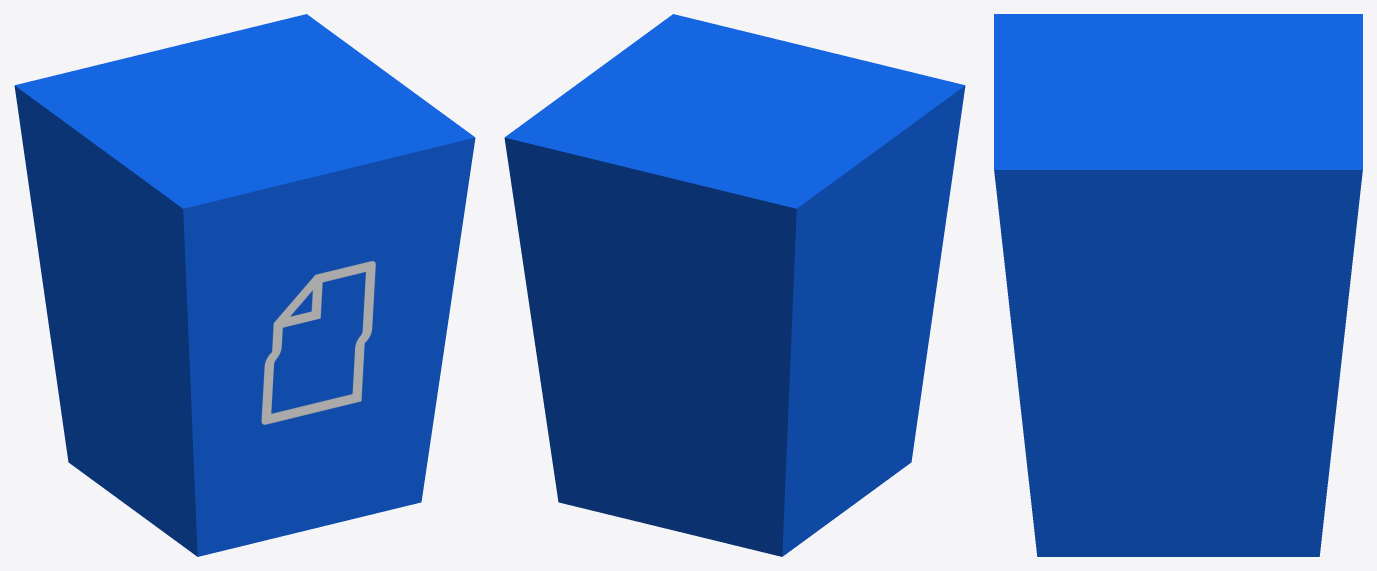
The model's file is PaperTrash.glb.
The picture shows the model from 3 angles, left to right: view 1: azimuth 30°, elevation 25°; view 2: azimuth 150°, elevation 25°; view 3: azimuth 270°, elevation 25°; orthographic projection. The views are drawn at different scales.
Parts seen in each view (by area): view 1: PaperTrash, paper; view 2: PaperTrash; view 3: PaperTrash.
Boxes of the visible parts, x1=… form: PaperTrash: x1=14, y1=14, x2=475, y2=556; paper: x1=261, y1=261, x2=375, y2=424; PaperTrash: x1=504, y1=14, x2=965, y2=556; PaperTrash: x1=994, y1=14, x2=1362, y2=556.
Bounding box in the file's own units: 0.4117 × 0.4993 × 0.4117.
Materials: 2 (1 with a texture image).
